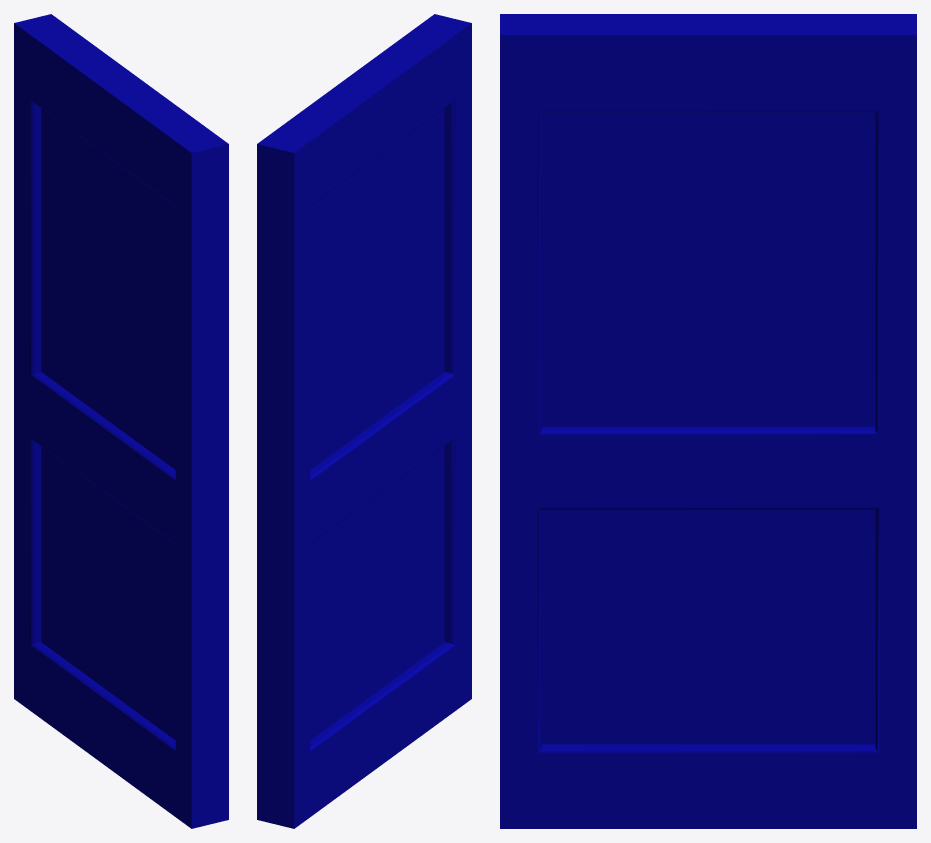
File: Door_test_.fbx
3 renders of one model, left to right at view 1: azimuth 30°, elevation 25°; view 2: azimuth 150°, elevation 25°; view 3: azimuth 270°, elevation 25°, orthographic. The views are drawn at different scales.
Visible parts, largest first — view 1: pCube1; view 2: pCube1; view 3: pCube1.
Part boxes in pixels (bbox=[...]): pCube1: bbox=[14, 14, 228, 828]; pCube1: bbox=[257, 14, 471, 828]; pCube1: bbox=[500, 14, 916, 828].
Size of the model in its own units: 0.1209 by 2.1 by 1.
